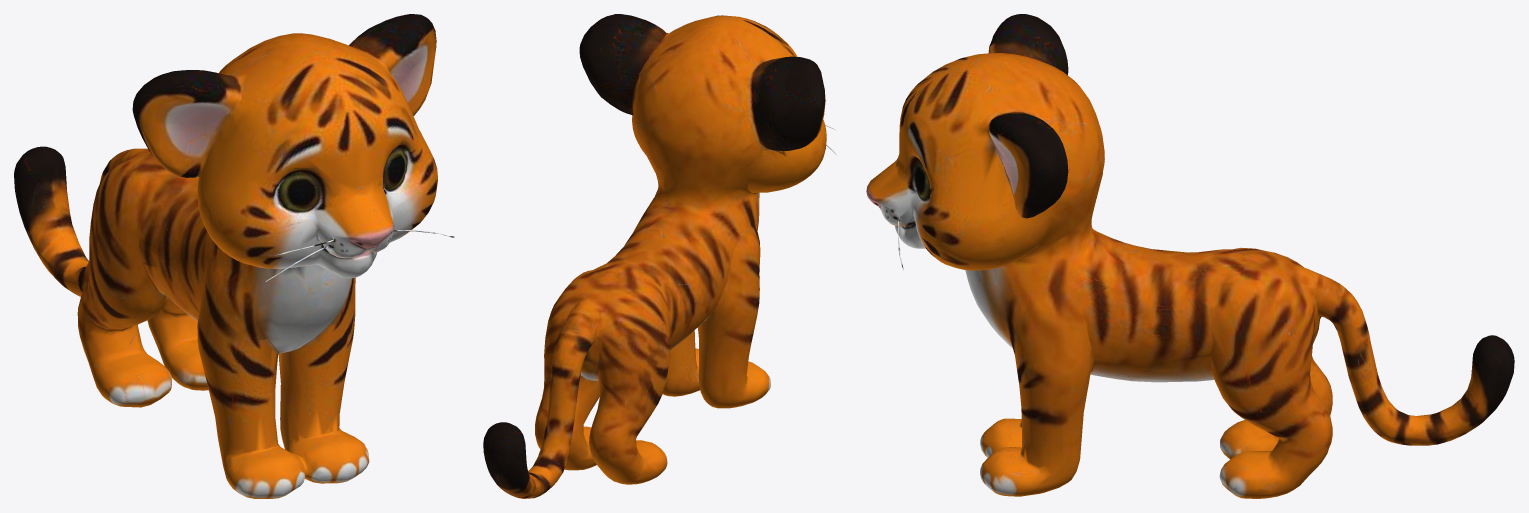
The model's file is tiger.glb.
The picture shows the model from 3 angles, left to right: view 1: azimuth 30°, elevation 25°; view 2: azimuth 150°, elevation 25°; view 3: azimuth 270°, elevation 25°; orthographic projection. The views are drawn at different scales.
Bounding box in the file's own units: 0.9346 × 1.35 × 1.9.
1 material, 1 textured.
